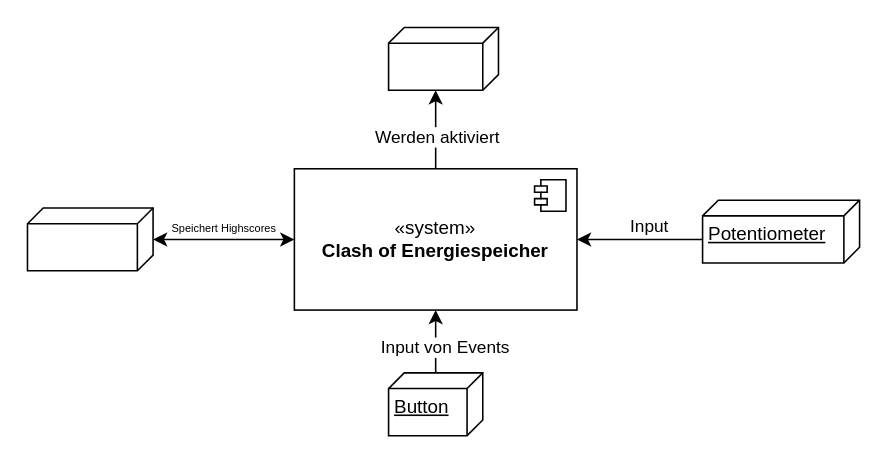
This 887x463 diagram has some shape labels left out. Here are the shapes that lost their labels. From the top down, the centre of each, then its label:
At point 442,58: "LED".
At point 89,238: "Text-Files".
